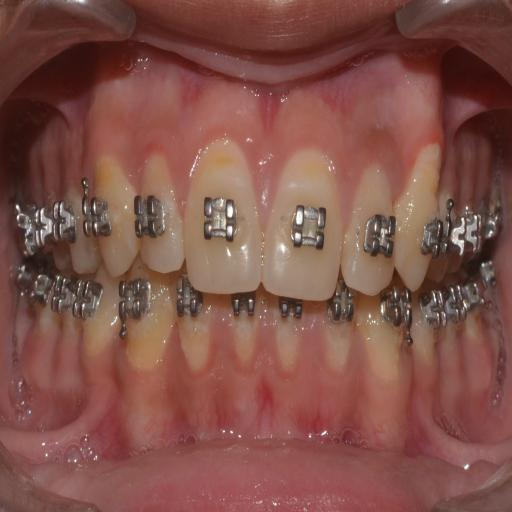correct_brace: (200, 189, 238, 250), (289, 196, 327, 256)
